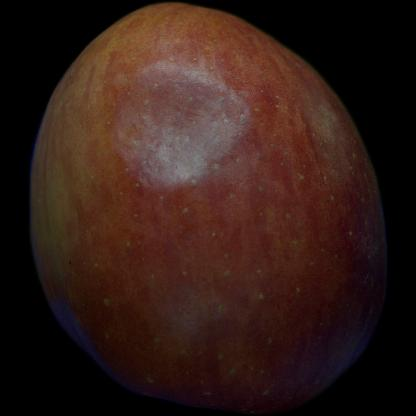defect: (113, 58, 264, 202)
